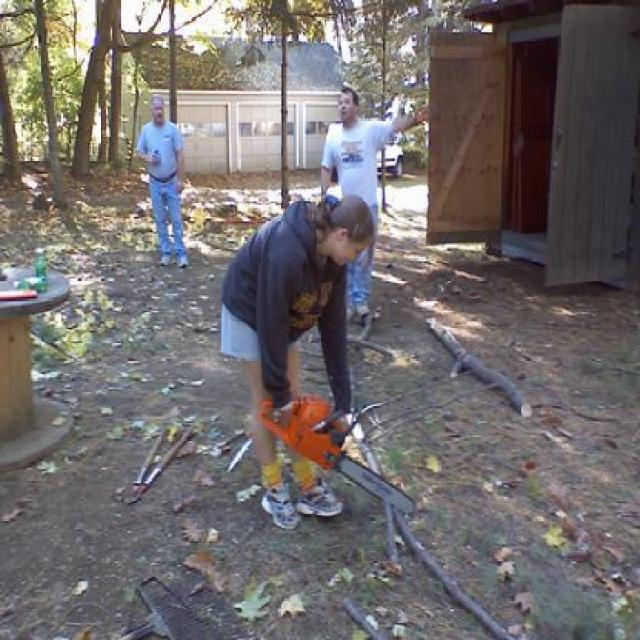Chainsaw: (257, 398, 420, 518)
